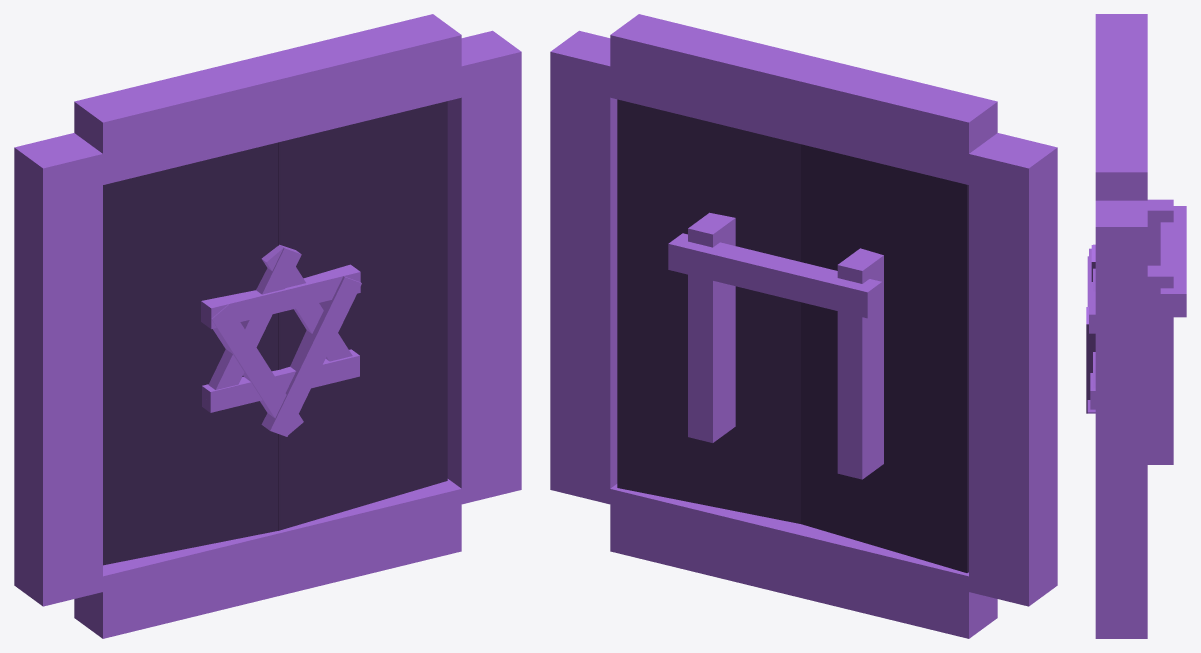
File: MagicShield.fbx
The picture shows the model from 3 angles, left to right: view 1: azimuth 30°, elevation 25°; view 2: azimuth 150°, elevation 25°; view 3: azimuth 270°, elevation 25°; orthographic projection. The views are drawn at different scales.
Parts seen in each view (by area): view 1: Cube.014, Cube.001, Cube.004; view 2: Cube.014, Cube.001, Cube.017; view 3: Cube.014, Cube.017, Cube.004.
Part boxes in pixels (box(x1,y1,x2,y2)): Cube.014: box(14, 14, 521, 638); Cube.001: box(103, 101, 447, 565); Cube.004: box(201, 244, 361, 436); Cube.014: box(550, 14, 1057, 638); Cube.001: box(617, 99, 968, 572); Cube.017: box(668, 212, 883, 479); Cube.014: box(1095, 14, 1147, 638); Cube.017: box(1147, 199, 1186, 464); Cube.004: box(1086, 244, 1095, 413).
Size of the model in its own units: 192 by 198 by 38.5.
